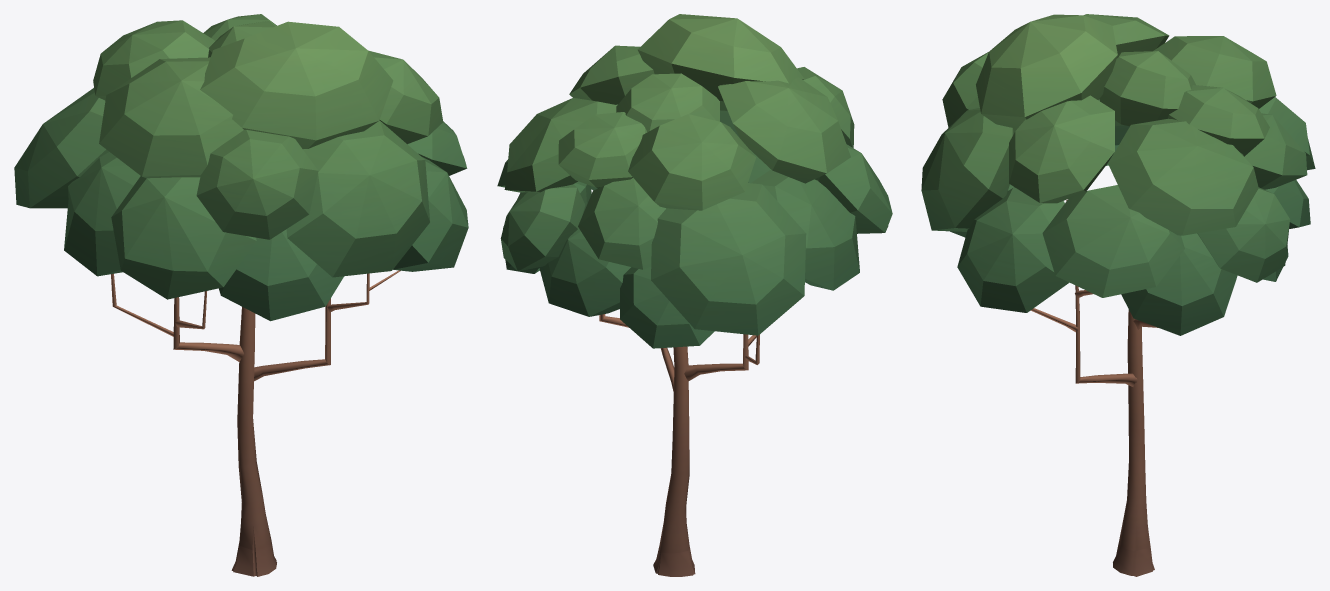
The model's file is tree-001.glb.
3 views of the same model, side by side, from view 1: azimuth 30°, elevation 25°; view 2: azimuth 150°, elevation 25°; view 3: azimuth 270°, elevation 25° (orthographic). The views are drawn at different scales.
Visible parts, largest first — view 1: Tree_001_Leaves, Tree_001_Bark, Tree_001_Stump; view 2: Tree_001_Leaves, Tree_001_Bark, Tree_001_Stump; view 3: Tree_001_Leaves, Tree_001_Bark, Tree_001_Stump.
Boxes of the visible parts, x1,y1,x2,y2 form: Tree_001_Leaves: [14, 14, 468, 321]; Tree_001_Bark: [111, 270, 400, 550]; Tree_001_Stump: [231, 540, 276, 576]; Tree_001_Leaves: [497, 14, 892, 348]; Tree_001_Bark: [599, 314, 759, 553]; Tree_001_Stump: [653, 545, 695, 576]; Tree_001_Leaves: [921, 14, 1315, 335]; Tree_001_Bark: [1031, 199, 1158, 550]; Tree_001_Stump: [1113, 541, 1154, 576].
Bounding box in the file's own units: 6.14 × 8.76 × 5.81.
Materials: 1 (1 with a texture image).
